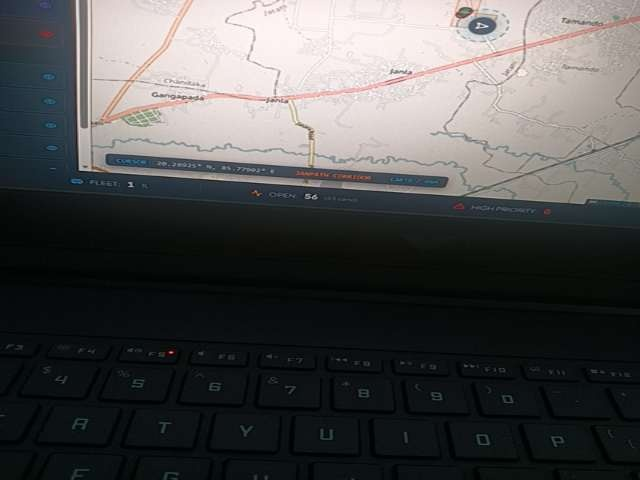pothole: (104, 403, 310, 480)
